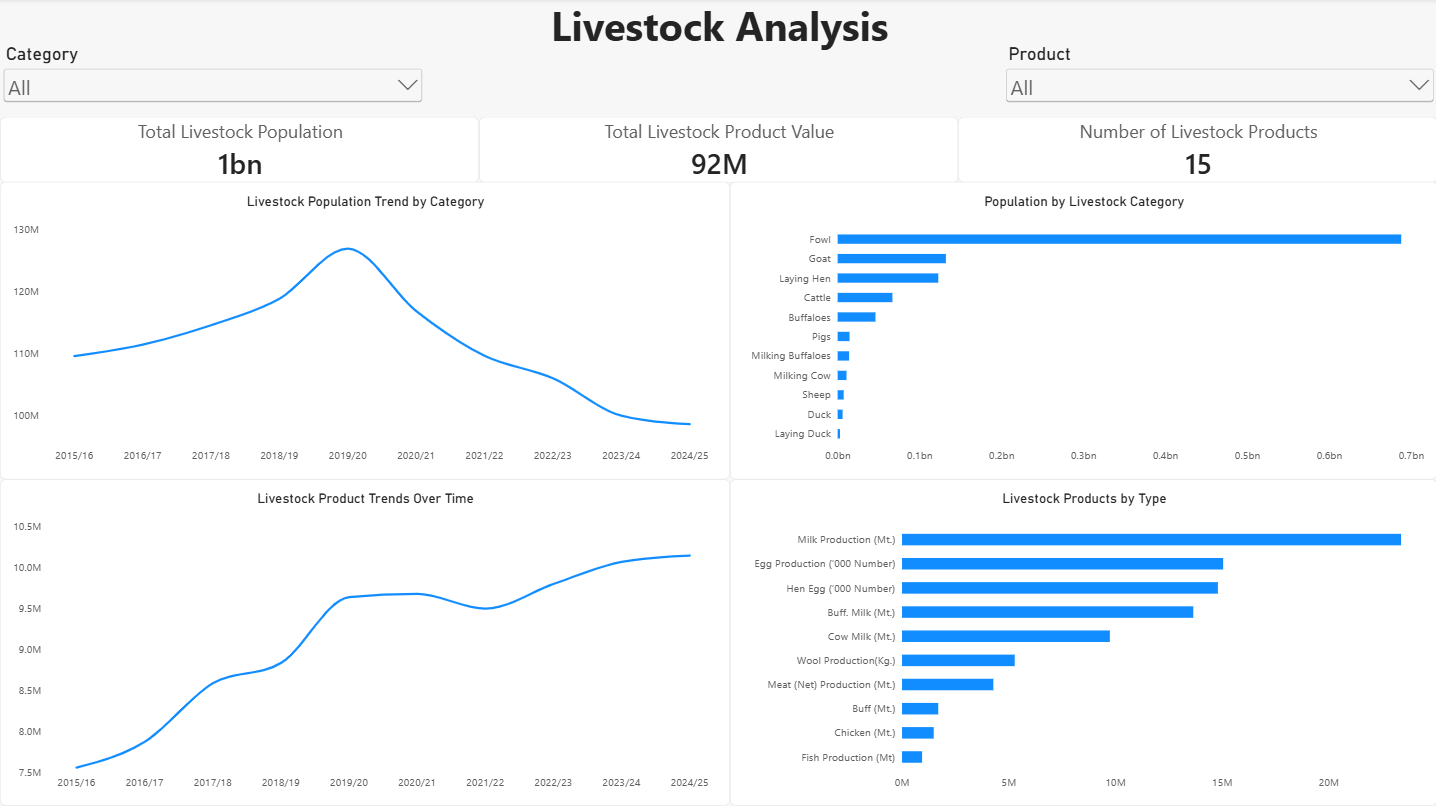

Layout of this report page (visuals, bound fields, positions):
{"tool":"powerbi","page":{"name":"Livestock Analysis","canvas":[1920,1080],"ordinal":4},"visuals":[{"type":"cardVisual","fields":{"Data":["_Measures.Total Livestock Population","_Measures.Total Livestock Product Value","_Measures.Number of Livestock Products"]},"box":[0,158.2,1920.1,88.7],"z":0},{"type":"lineChart","title":"Livestock Population Trend by Category","fields":{"Category":["Livestock_Population_Yearly.Fiscal_Year"],"Y":["_Measures.Total Livestock Population"]},"box":[0,245.9,975,397.7],"z":1000},{"type":"slicer","fields":{"Values":["Livestock_Population_Yearly.Category"]},"box":[0,59.7,568.8,98.7],"z":2000},{"type":"clusteredBarChart","title":"Livestock Products by Type","fields":{"Category":["Livestock_Products_Yearly.Product"],"Y":["_Measures.Total Livestock Product Value"]},"box":[975,643.6,945,436.2],"z":3000},{"type":"lineChart","title":"Livestock Product Trends Over Time","fields":{"Category":["Livestock_Products_Yearly.Fiscal_Year"],"Y":["_Measures.Total Livestock Product Value"]},"box":[0,643.6,975,436.2],"z":4000},{"type":"slicer","fields":{"Values":["Livestock_Products_Yearly.Product"]},"box":[1338.4,59.9,580.9,97.7],"z":5000},{"type":"clusteredBarChart","title":"Population by Livestock Category","fields":{"Category":["Livestock_Population_Yearly.Category"],"Y":["_Measures.Total Livestock Population"]},"box":[975,245.9,945,397.7],"z":6000},{"type":"textbox","box":[506.7,0,910.8,87.7],"z":7000}]}

Visuals, with their boxes in screenshot pixels (x1, y1, x2, y2), scaled from the page's 1920x1080 canvas onto the 1436x806 screenshot:
cardVisual - _Measures.Total Livestock Population x _Measures.Total Livestock Product Value: bbox=[0, 118, 1435, 184]
"Livestock Population Trend by Category" lineChart: bbox=[0, 184, 729, 480]
slicer - Livestock_Population_Yearly.Category: bbox=[0, 45, 425, 118]
"Livestock Products by Type" clusteredBarChart: bbox=[729, 480, 1435, 805]
"Livestock Product Trends Over Time" lineChart: bbox=[0, 480, 729, 805]
slicer - Livestock_Products_Yearly.Product: bbox=[1001, 45, 1435, 118]
"Population by Livestock Category" clusteredBarChart: bbox=[729, 184, 1435, 480]
textbox: bbox=[379, 0, 1060, 65]
